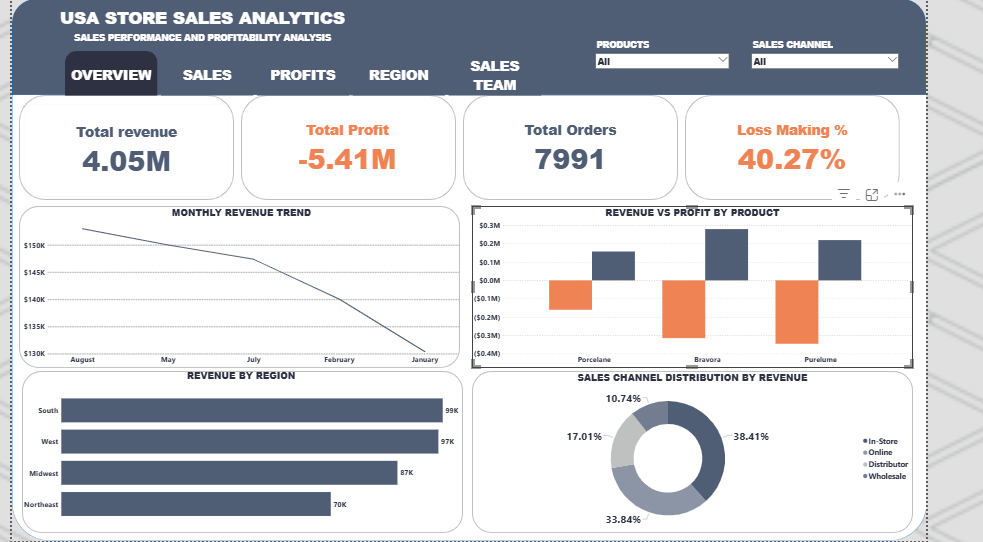

This screenshot's page, from the dashboard's own definition file:
{"tool":"powerbi","page":{"name":"OVERVIEW","canvas":[2000,1000],"ordinal":0},"visuals":[{"type":"shape","box":[0,0,2000,1000],"z":0},{"type":"shape","box":[23.8,138.5,396.3,240.7],"z":0,"group":"g1"},{"type":"textbox","title":"USA STORE SALES ANALYTICS","box":[31.1,14.5,792.5,128.6],"z":1000},{"type":"shape","box":[422.1,138.5,396.3,240.7],"z":1000,"group":"g1"},{"type":"group","id":"g1","title":"Group 1","box":[23.8,138.5,796.5,487],"z":2000},{"type":"shape","box":[422.1,385.4,396.3,240.7],"z":2000,"group":"g1"},{"type":"shape","box":[23.8,385.4,396,240],"z":3000,"group":"g1"},{"type":"shape","box":[0,634.9,823.7,363.1],"z":3000},{"type":"shape","box":[1402.2,542.2,580,457.8],"z":4000},{"type":"shape","box":[824.4,124.4,1175.6,435.6],"z":6000},{"type":"shape","box":[824.4,542.2,577.8,455.6],"z":7000},{"type":"cardVisual","fields":{"Data":["sales_order_usa.Total revenue"]},"box":[93.4,134.9,361,211.6],"z":8000},{"type":"cardVisual","fields":{"Data":["My measures.Total Profit"]},"box":[485.5,124.5,356.8,211.6],"z":9000},{"type":"cardVisual","fields":{"Data":["My measures.Total Orders"]},"box":[485.9,383.8,359.2,197.2],"z":10000},{"type":"cardVisual","fields":{"Data":["My measures.Loss Making %"]},"box":[74.8,371.2,360.5,194.9],"z":11000},{"type":"lineChart","title":"MONTHLY REVENUE TREND","fields":{"Category":["Month by Revenue.Month_Name"],"Y":["Sum(Month by Revenue.Total_Revenue)"]},"box":[842.2,144.4,1137.8,402.2],"z":12000},{"type":"clusteredBarChart","title":"REVENUE BY REGION","fields":{"Category":["region by revenue.Region","store_sales_usa.State","region by revenue.City Name"],"Y":["Sum(region by revenue.Total_Revenue)"]},"box":[824.4,560,577.8,422.2],"z":13000},{"type":"clusteredColumnChart","title":"REVENUE VS PROFIT BY PRODUCT","fields":{"Category":["BRAND PERFORMANCE.Brand"],"Y":["Sum(BRAND PERFORMANCE.Total_Profit)","Sum(BRAND PERFORMANCE.Total_Revenue)"]},"box":[0,634,818,348],"z":14000},{"type":"donutChart","title":"SALES CHANNEL DISTRIBUTION BY REVENUE","fields":{"Category":["Sales channel by revenue.sales channel"],"Y":["Sum(Sales channel by revenue.revenue)"]},"box":[1421.2,560,545,421.2],"z":15000},{"type":"slicer","title":"PRODUCTS","fields":{"Values":["product_usa.Product Name"]},"box":[1692.9,0,298.8,76.8],"z":16000},{"type":"slicer","fields":{"Values":["store_sales_usa.Sales Channel"]},"box":[1437.8,0,261.4,76.8],"z":17000},{"type":"pageNavigator","box":[823.7,53.9,632.8,70.5],"z":18000},{"type":"image","box":[43.6,192.9,141.1,149.4],"z":19000},{"type":"image","box":[43.6,431.5,168,195],"z":20000},{"type":"image","box":[444,176.3,211.6,188.8],"z":21000},{"type":"image","box":[444,468.9,157.7,145.2],"z":22000},{"type":"image","box":[1597.8,144.1,384.9,221.5],"z":23000}]}

Visuals, with their boxes on the page's 2000x1000 design canvas (x1, y1, x2, y2). These are canvas units, not pixel positions in the 983x542 screenshot, which may show the page scaled, cropped or inside an application window:
shape: [0,0,2000,1000]
shape: [24,138,420,379]
"USA STORE SALES ANALYTICS" textbox: [31,14,824,143]
shape: [422,138,818,379]
"Group 1" group: [24,138,820,626]
shape: [422,385,818,626]
shape: [24,385,420,625]
shape: [0,635,824,998]
shape: [1402,542,1982,1000]
shape: [824,124,2000,560]
shape: [824,542,1402,998]
cardVisual - sales_order_usa.Total revenue: [93,135,454,346]
cardVisual - My measures.Total Profit: [486,124,842,336]
cardVisual - My measures.Total Orders: [486,384,845,581]
cardVisual - My measures.Loss Making %: [75,371,435,566]
"MONTHLY REVENUE TREND" lineChart: [842,144,1980,547]
"REVENUE BY REGION" clusteredBarChart: [824,560,1402,982]
"REVENUE VS PROFIT BY PRODUCT" clusteredColumnChart: [0,634,818,982]
"SALES CHANNEL DISTRIBUTION BY REVENUE" donutChart: [1421,560,1966,981]
"PRODUCTS" slicer: [1693,0,1992,77]
slicer - store_sales_usa.Sales Channel: [1438,0,1699,77]
pageNavigator: [824,54,1456,124]
image: [44,193,185,342]
image: [44,432,212,626]
image: [444,176,656,365]
image: [444,469,602,614]
image: [1598,144,1983,366]
